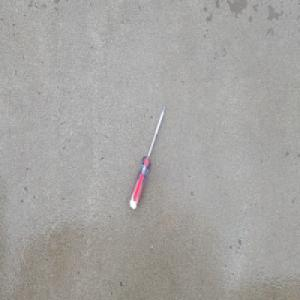Screwdriver: (129, 101, 168, 210)
